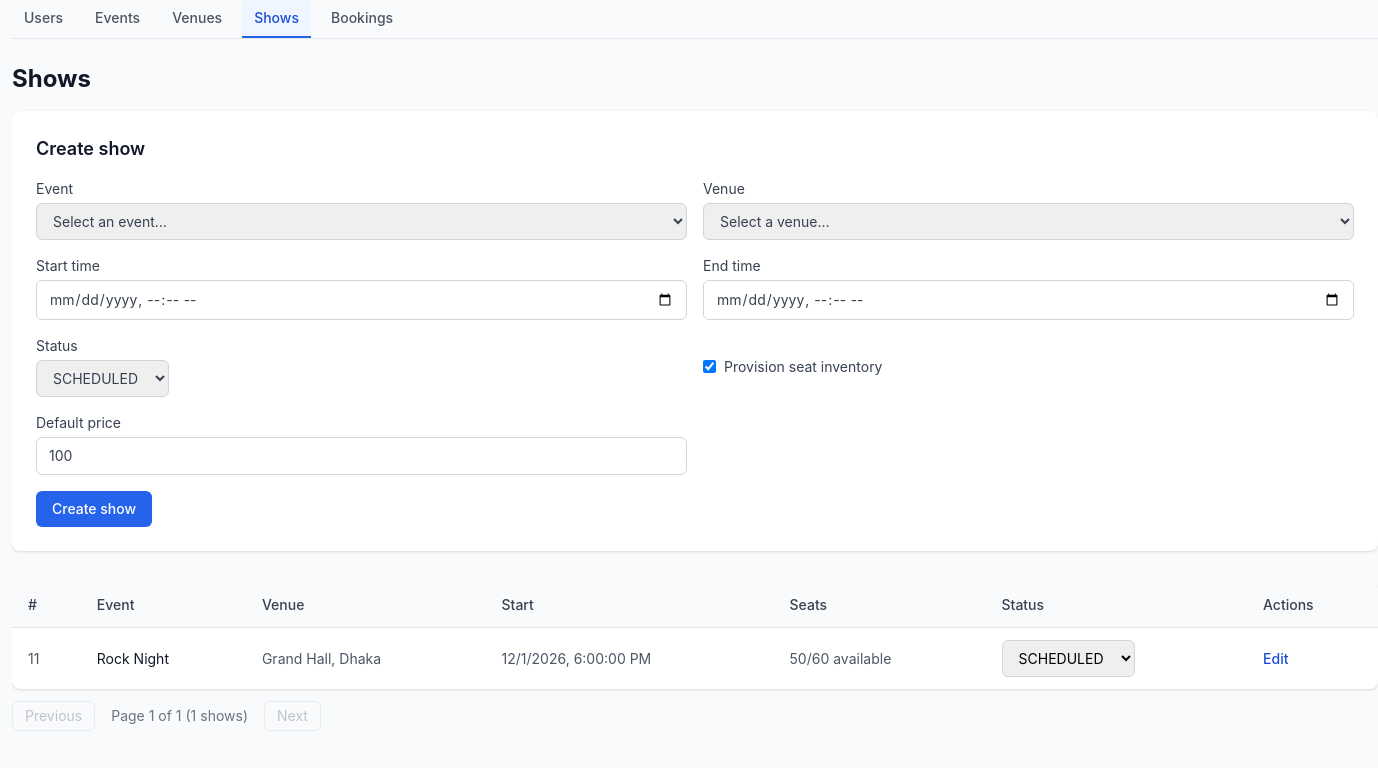
Scenario: AdminShowsPage › changes a show status inline via updateShow
The width and height of the screenshot is (1378, 768).
Select "ONGOING" in the dropdown named "Status for show 11". click: (1068, 658)
box: x1=1002 y1=640 x2=1134 y2=677
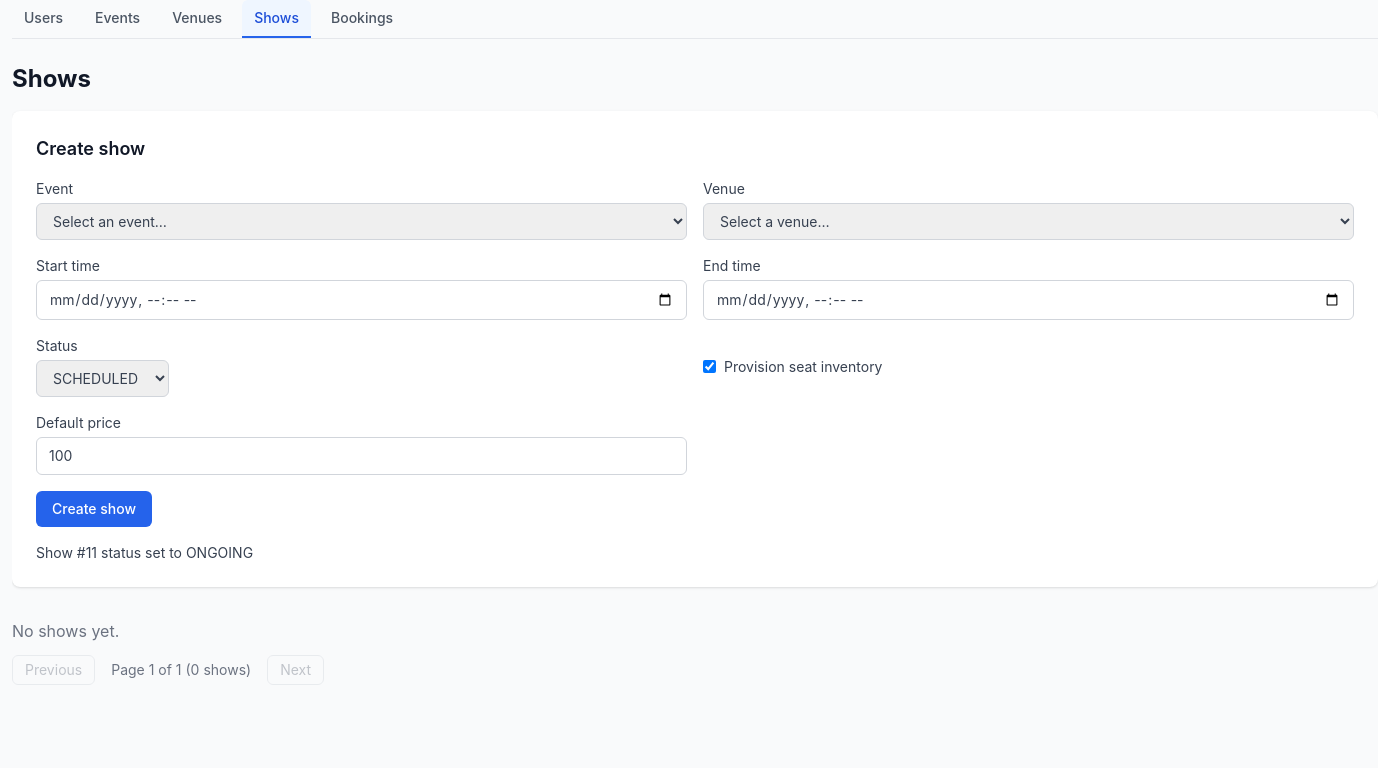
Expected: the text "Show #11 status set to ONGOING" is shown, x1=36 y1=544 x2=253 y2=561
